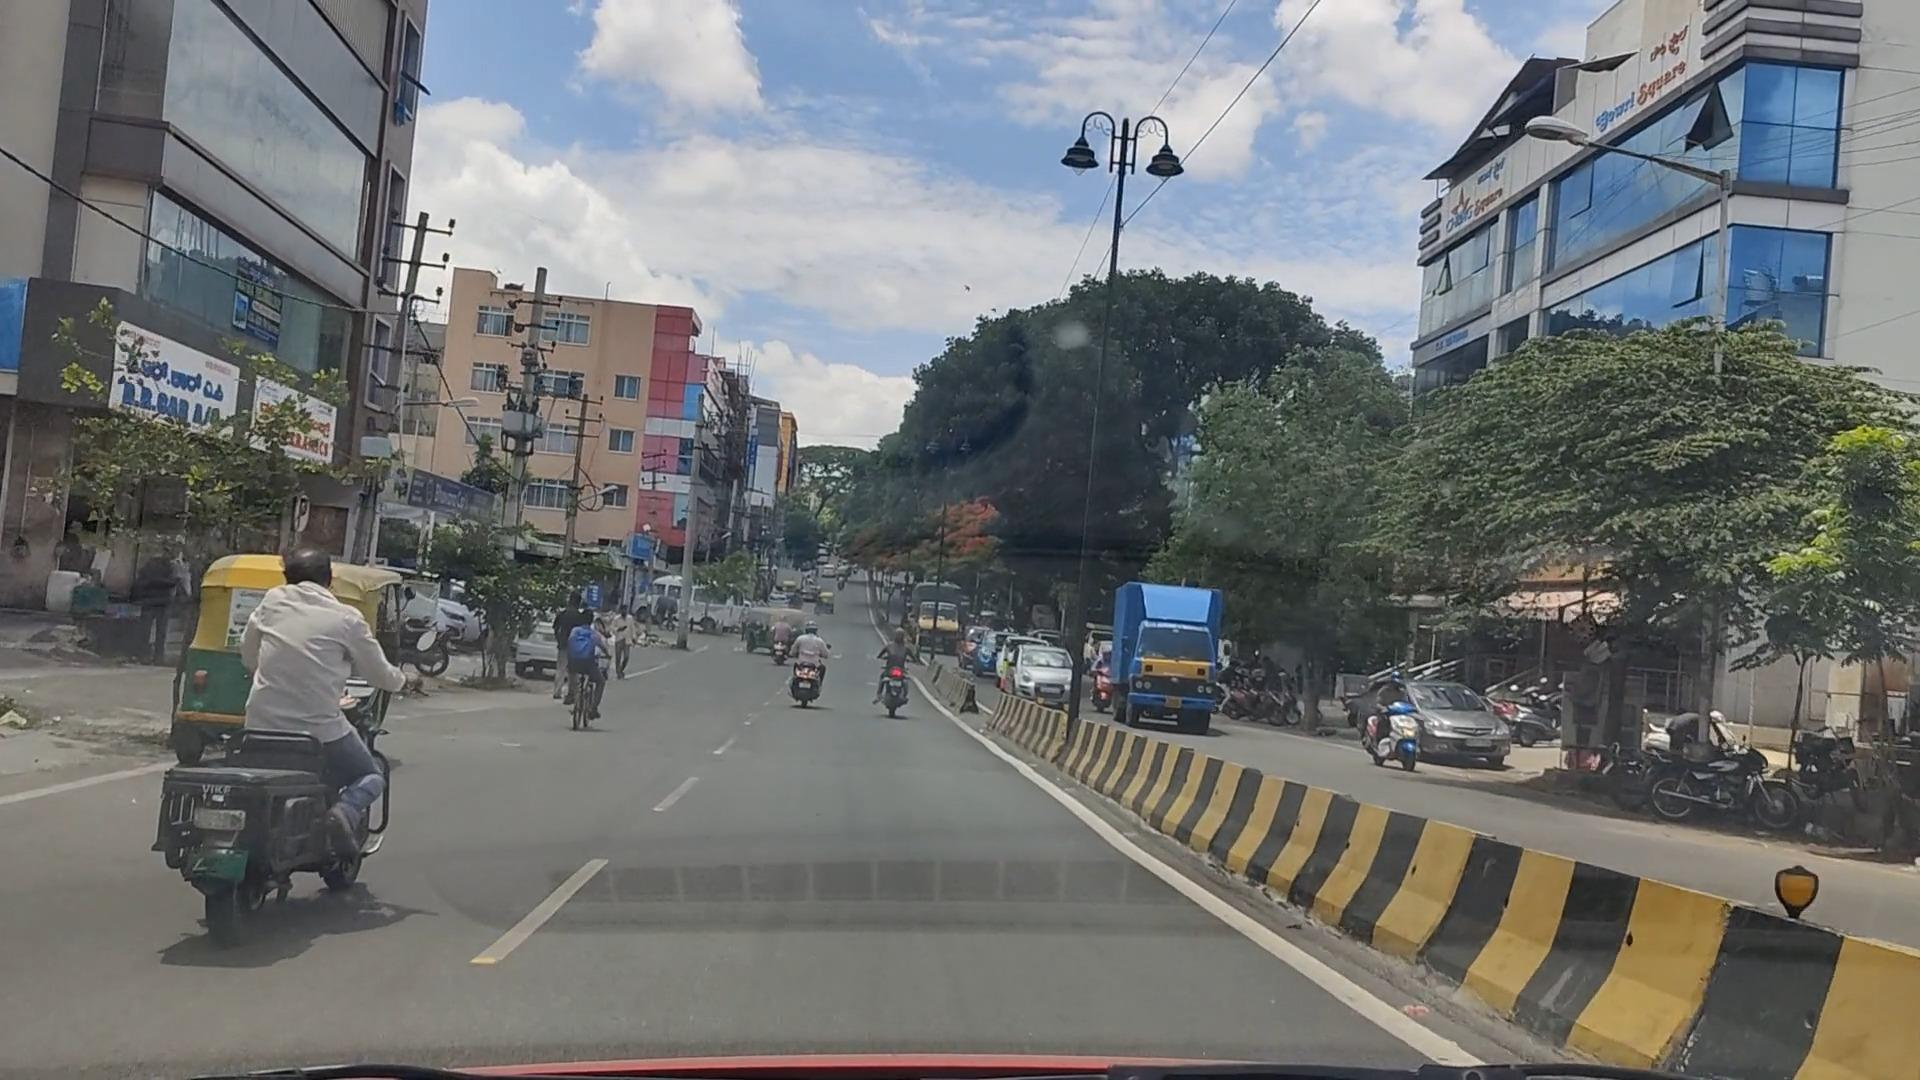LMV: (215, 524, 413, 976)
